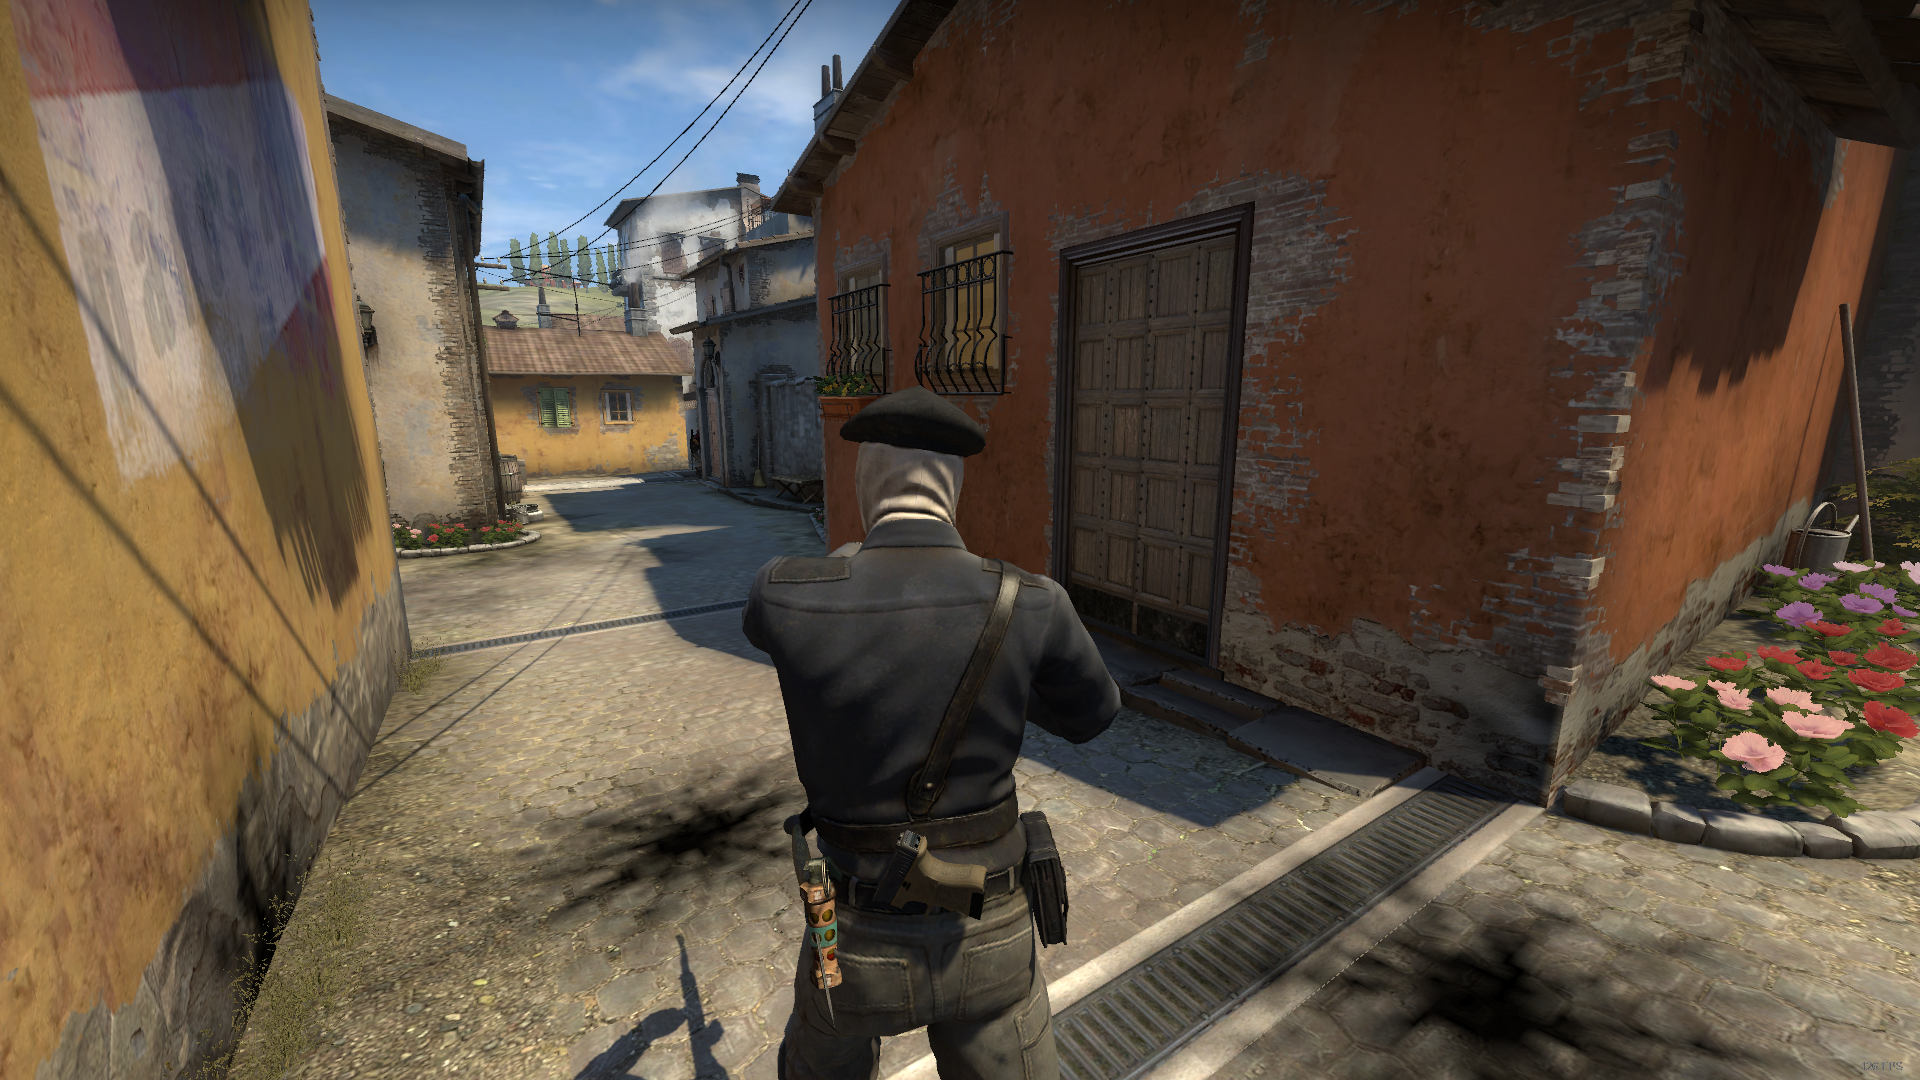t: (742, 382, 1133, 1080)
